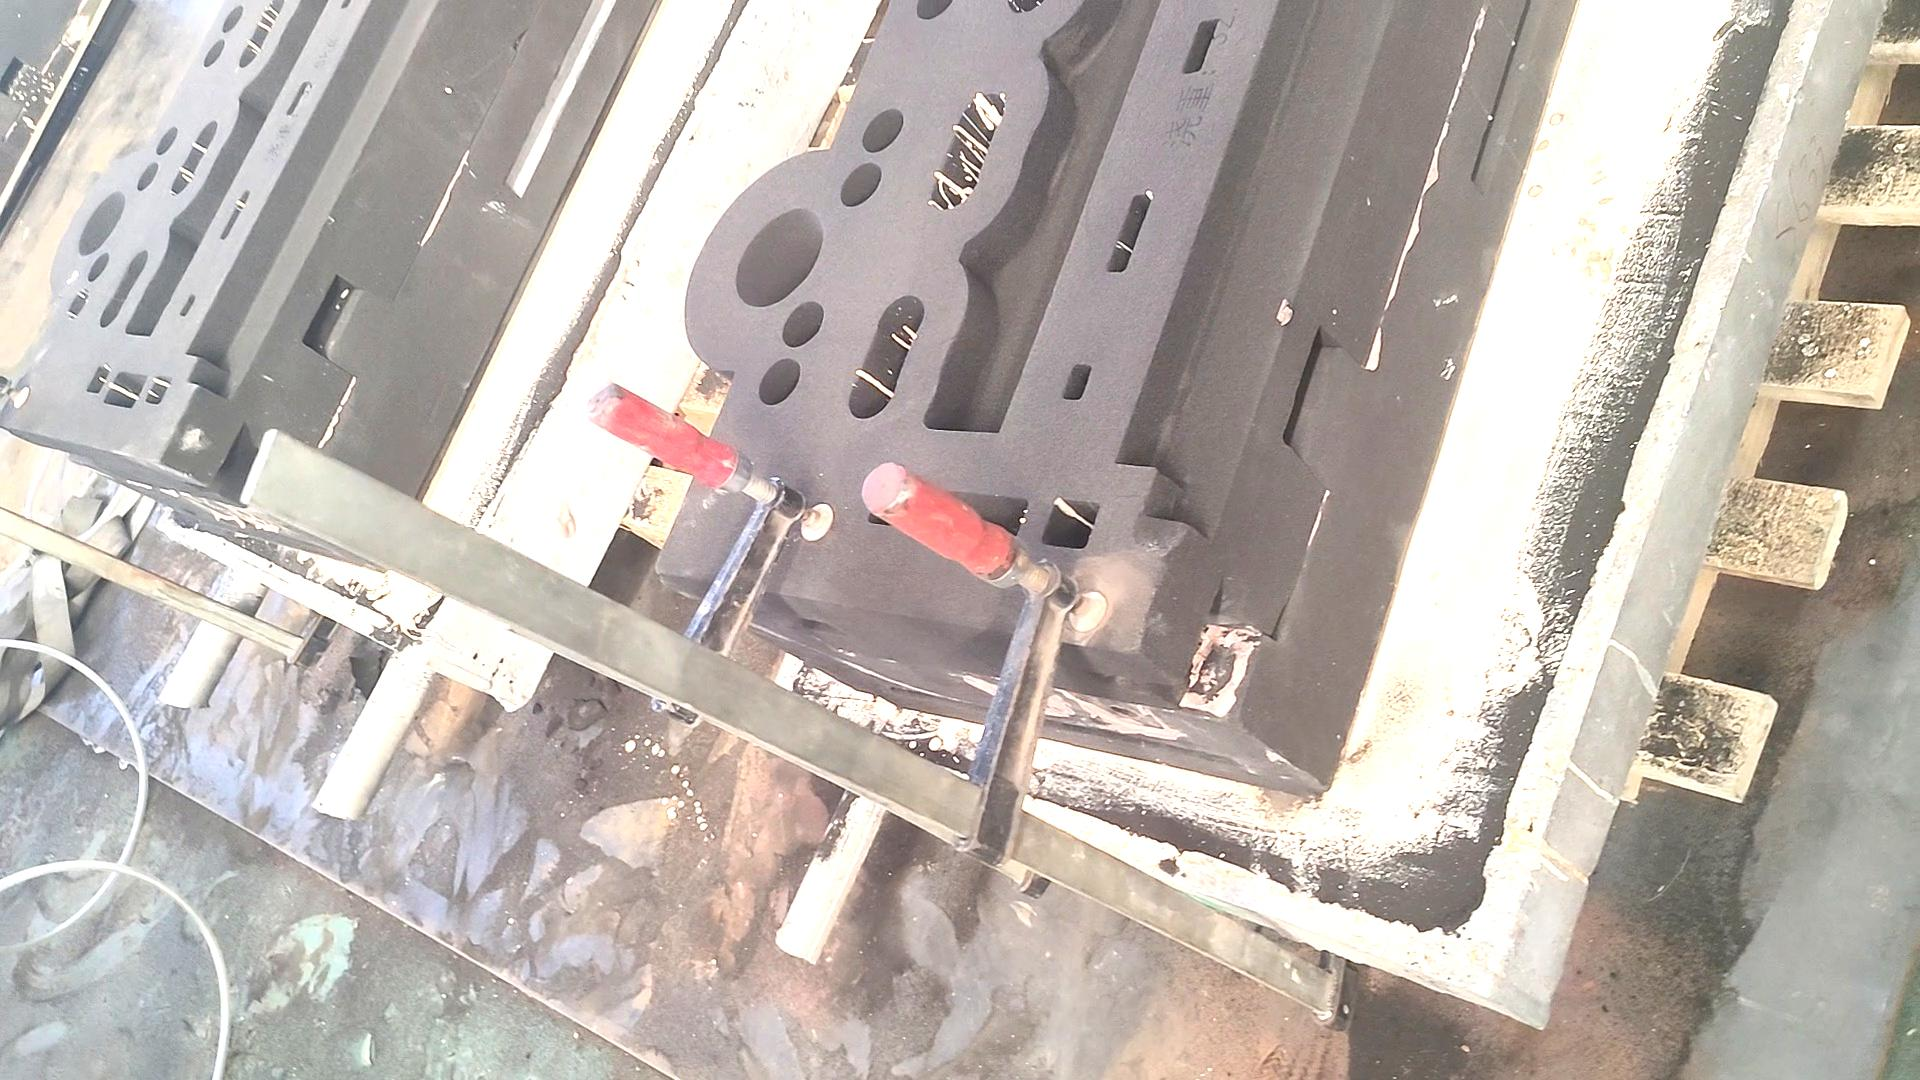pouring hole: (735, 207, 822, 306), (78, 190, 127, 256)
